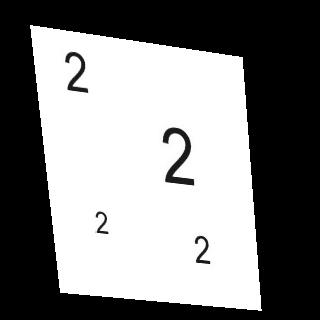two: (151, 125, 213, 187), (53, 47, 103, 97), (186, 232, 218, 264), (89, 208, 119, 238)
